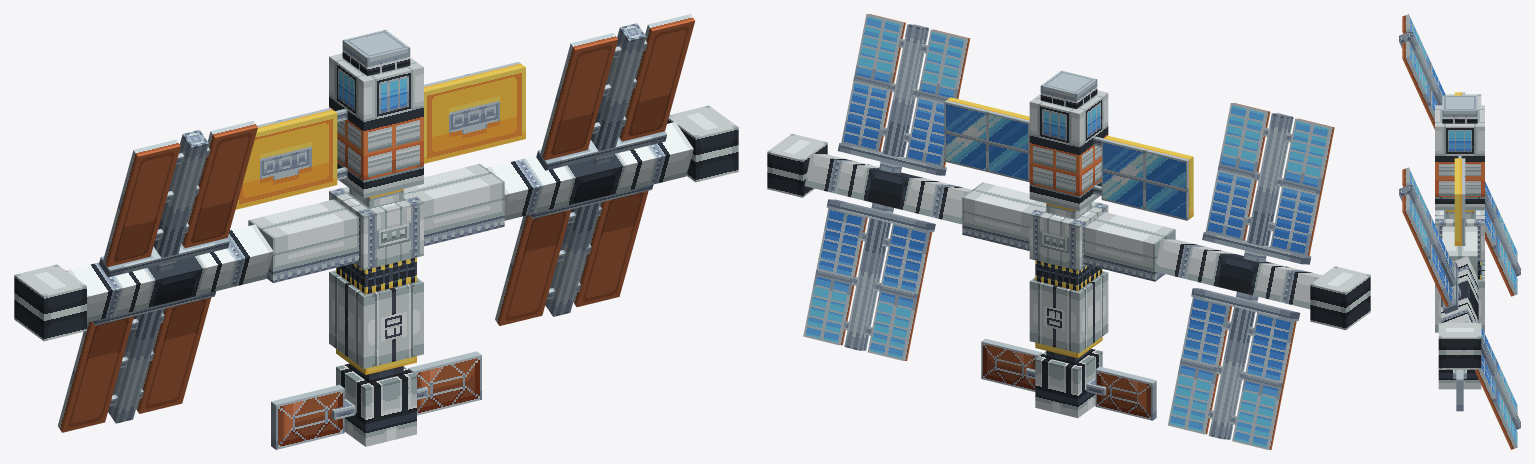
File: big-satellite.gltf
3 views of the same model, side by side, from view 1: azimuth 30°, elevation 25°; view 2: azimuth 150°, elevation 25°; view 3: azimuth 270°, elevation 25° (orthographic). The views are drawn at different scales.
Visible parts, largest first — view 1: cube (×30); view 2: cube (×32); view 3: cube (×24).
Part boxes in pixels (bbox=[...]): cube (×30): bbox=[14, 14, 738, 449]; cube (×32): bbox=[767, 14, 1370, 449]; cube (×24): bbox=[1399, 14, 1520, 449].
Bounding box in the file's own units: 10.12 × 5.38 × 2.14.
1 material, 1 textured.
